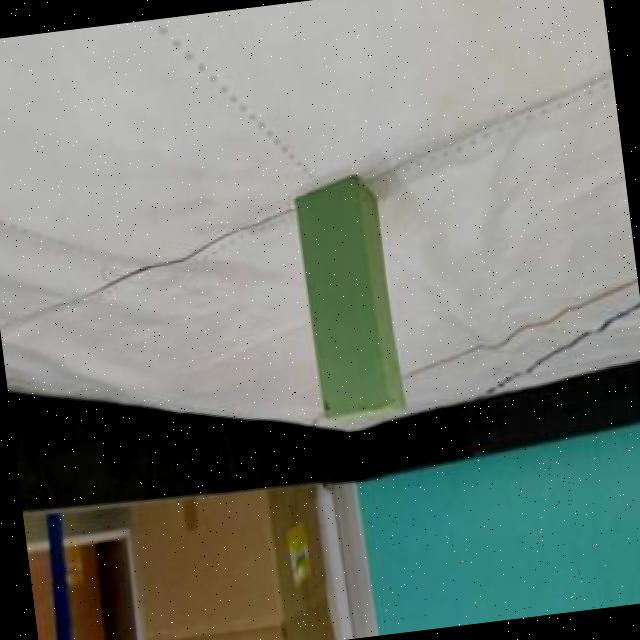greenbox: (288, 170, 410, 426)
